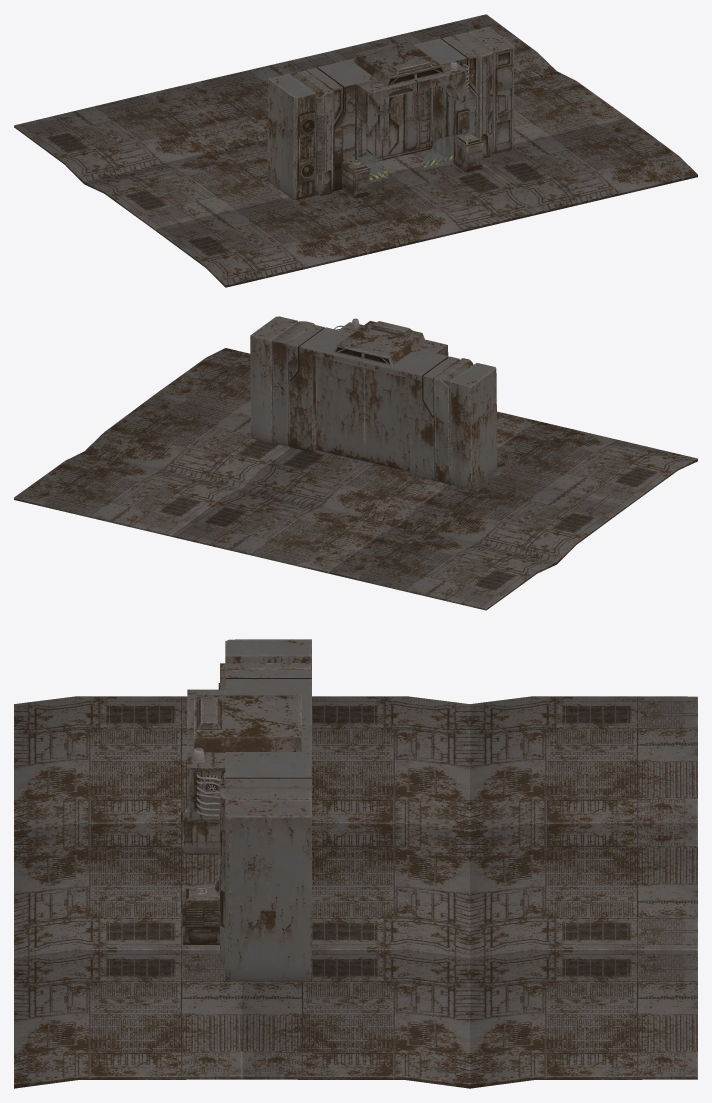
Rendered from bunker.glb.
3 views of the same model, one above another, from view 1: azimuth 30°, elevation 25°; view 2: azimuth 150°, elevation 25°; view 3: azimuth 270°, elevation 25° (orthographic). The views are drawn at different scales.
Visible parts, largest first — view 1: floor_low_Floor_0, flat_low_Gate_0, flat_low_Floor_0, Gateright_low_Gate_0, Gateleft_low_Gate_0; view 2: floor_low_Floor_0, flat_low_Gate_0, Gateright_low_Gate_0, Gateleft_low_Gate_0, flat_low_Floor_0; view 3: floor_low_Floor_0, flat_low_Gate_0, flat_low_Floor_0.
Boxes of the visible parts, x1,y1,x2,y2 form: floor_low_Floor_0: [14, 14, 697, 287]; flat_low_Gate_0: [267, 27, 514, 199]; flat_low_Floor_0: [290, 32, 469, 182]; Gateright_low_Gate_0: [382, 87, 432, 159]; Gateleft_low_Gate_0: [356, 99, 384, 163]; floor_low_Floor_0: [14, 348, 697, 610]; flat_low_Gate_0: [250, 316, 497, 489]; Gateright_low_Gate_0: [315, 356, 364, 461]; Gateleft_low_Gate_0: [364, 367, 409, 471]; flat_low_Floor_0: [272, 318, 450, 483]; floor_low_Floor_0: [14, 696, 697, 1088]; flat_low_Gate_0: [181, 639, 311, 981]; flat_low_Floor_0: [189, 695, 301, 894].
Size of the model in its own units: 26 by 6.52 by 20.17.
2 materials, 2 textured.
